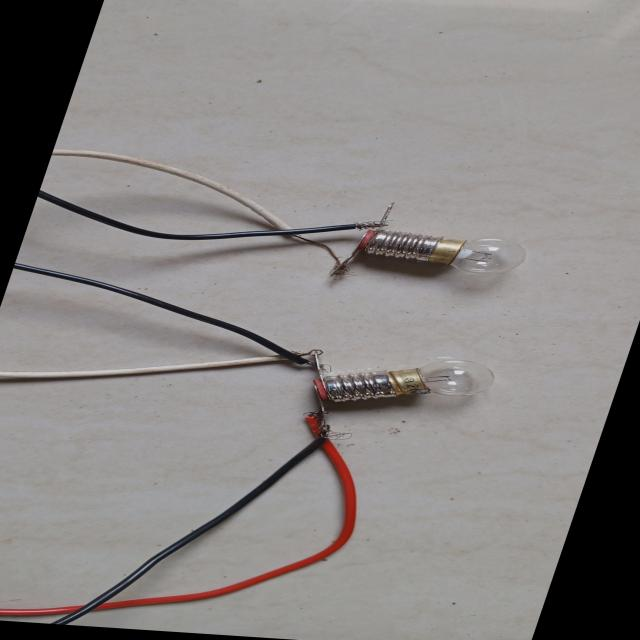Electric Bulbs: (221, 181, 570, 451)
